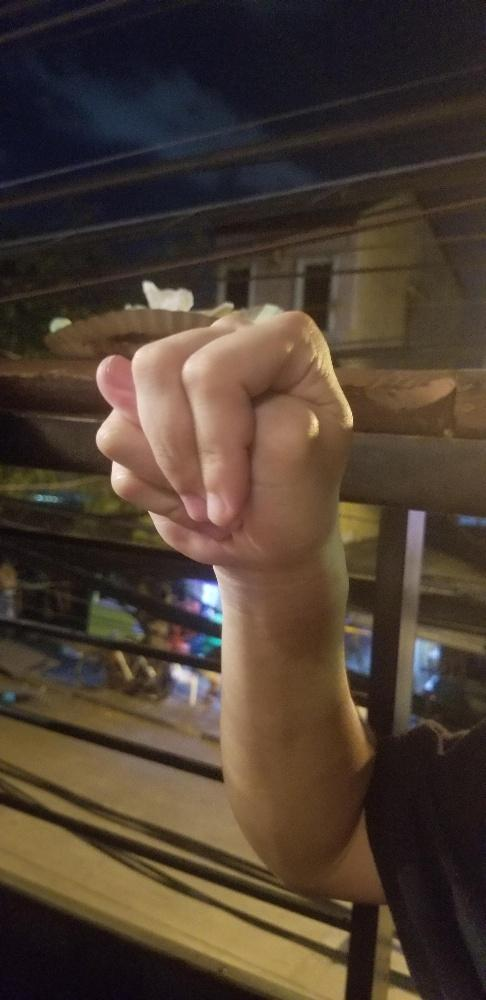n: (89, 300, 353, 573)
